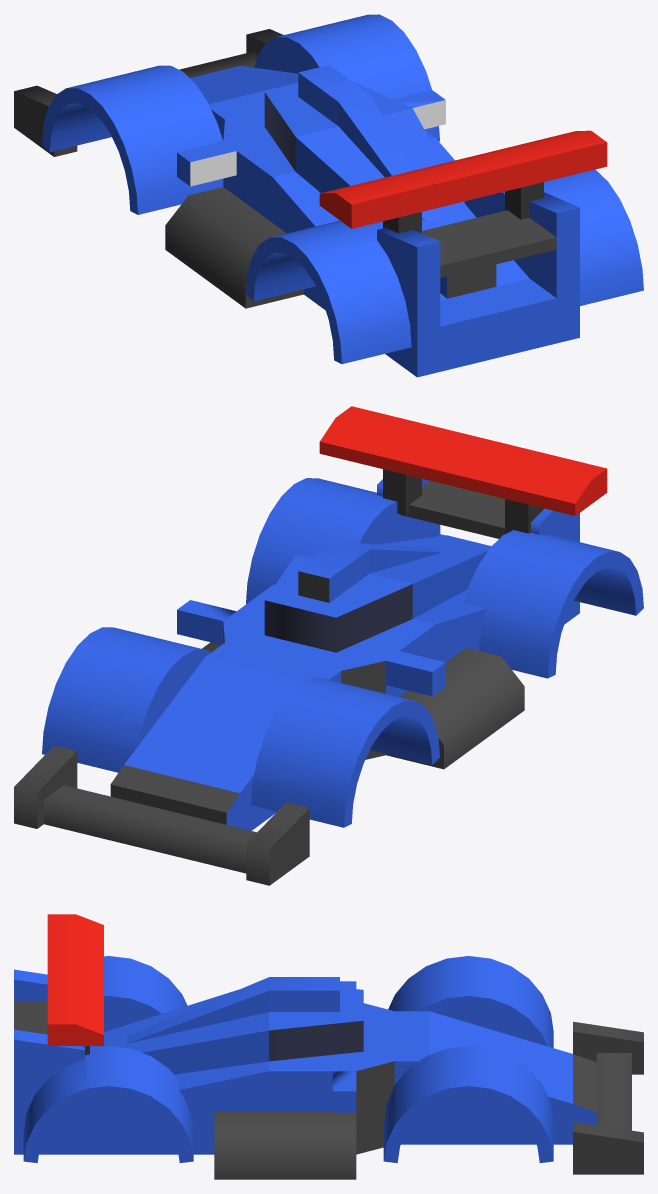
File: SM_Race_Futuristic_Body.fbx
3 renders of one model, top to bottom at view 1: azimuth 30°, elevation 25°; view 2: azimuth 150°, elevation 25°; view 3: azimuth 270°, elevation 25°, orthographic. The views are drawn at different scales.
Parts seen in each view (by area): view 1: SM_Race_Futuristic_Body; view 2: SM_Race_Futuristic_Body; view 3: SM_Race_Futuristic_Body.
Boxes of the visible parts, bbox=[...] form: SM_Race_Futuristic_Body: bbox=[14, 14, 643, 377]; SM_Race_Futuristic_Body: bbox=[14, 406, 643, 885]; SM_Race_Futuristic_Body: bbox=[14, 914, 643, 1179].
Size of the model in its own units: 1.3 by 0.7 by 2.66.
